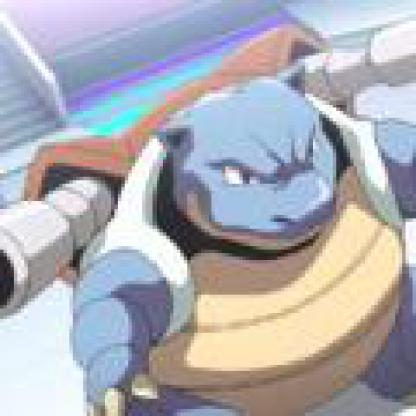Blastoise: (1, 1, 414, 414)
